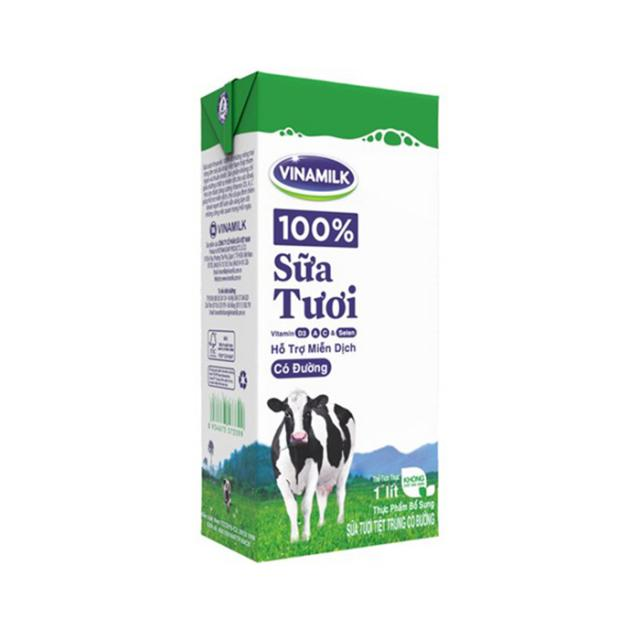non_white_jug: (233, 55, 640, 640)
